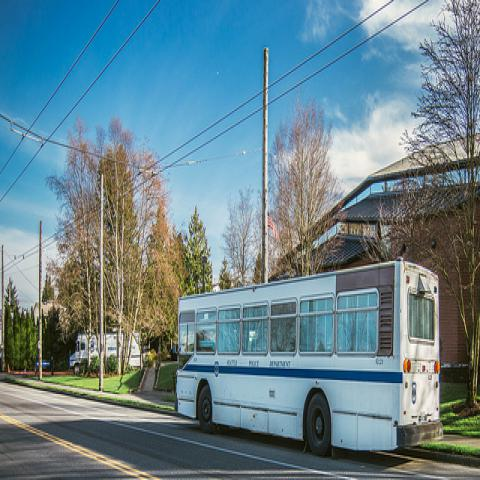bus: (175, 260, 443, 456)
truck: (70, 332, 150, 376)
